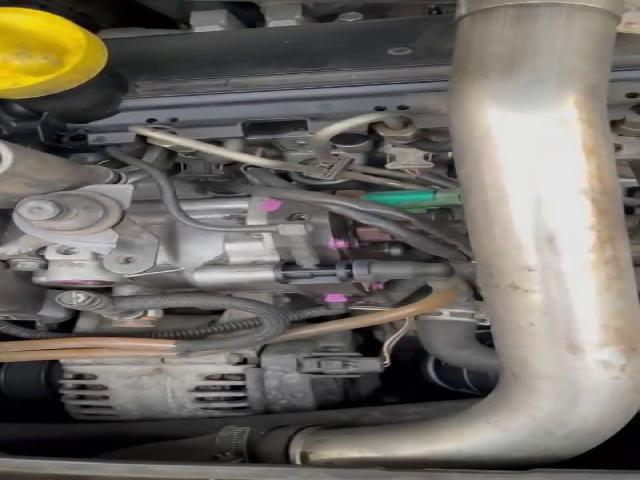alternator: (53, 322, 385, 421)
high_pressure_pump: (27, 194, 389, 309)
